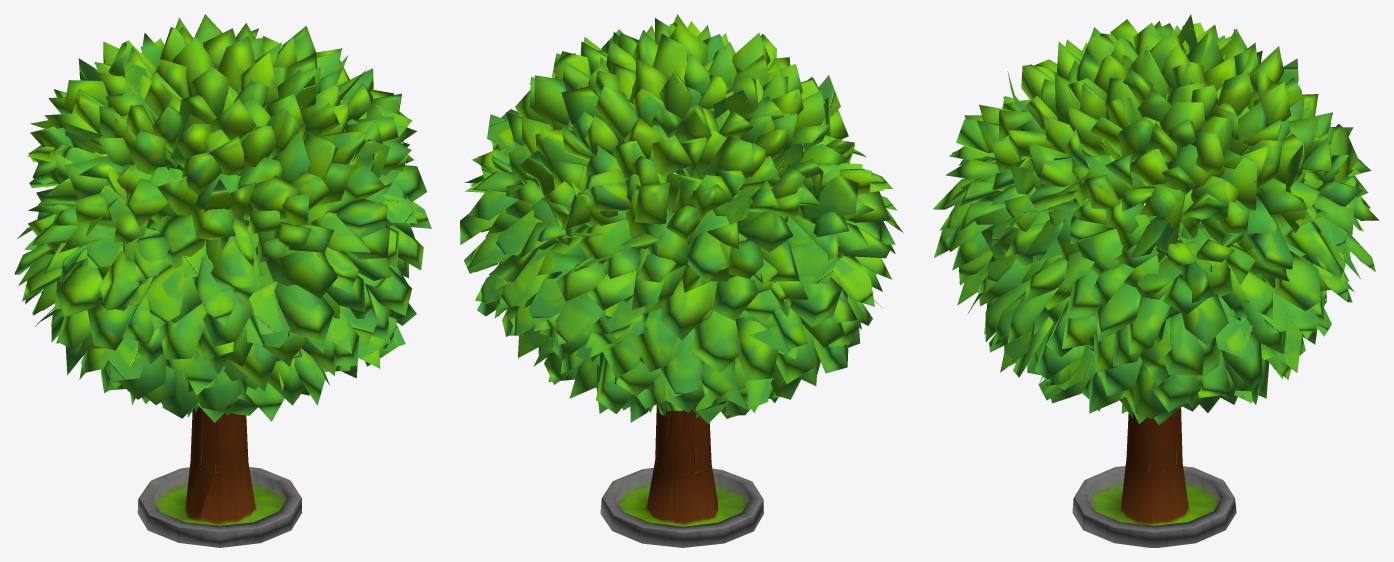
The model's file is tree.glb.
The picture shows the model from 3 angles, left to right: view 1: azimuth 30°, elevation 25°; view 2: azimuth 150°, elevation 25°; view 3: azimuth 270°, elevation 25°; orthographic projection.
Parts seen in each view (by area): view 1: geometry_0; view 2: geometry_0; view 3: geometry_0.
Boxes of the visible parts, x1,y1,x2,y2 form: geometry_0: (14,14,431,547); geometry_0: (460,14,903,547); geometry_0: (933,14,1379,547).
Bounding box in the file's own units: 0.8689 × 1 × 0.8524.
1 material, 1 textured.
